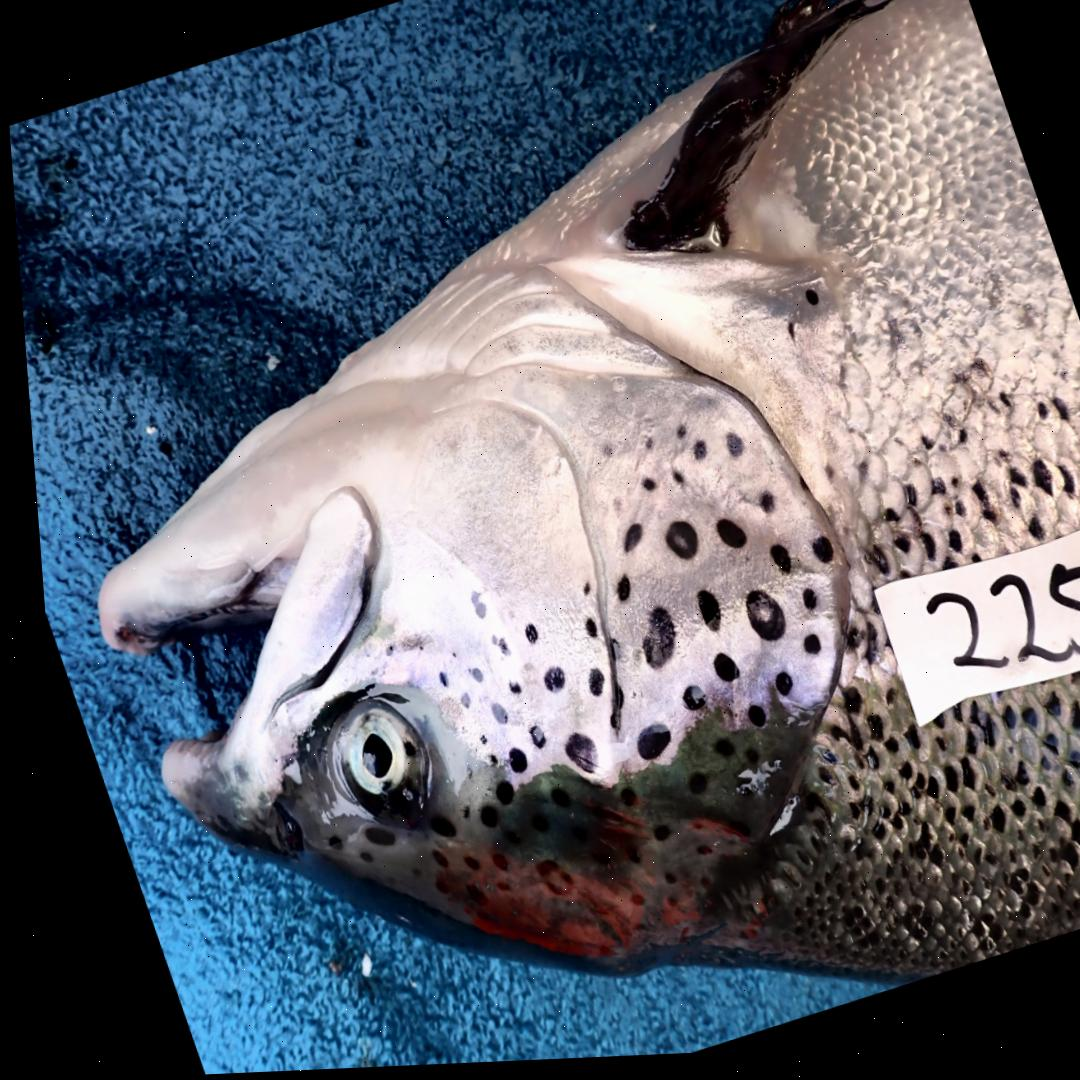spot: (736, 596, 775, 649), (632, 612, 665, 674), (553, 737, 585, 778), (625, 729, 659, 766), (657, 526, 689, 565), (687, 596, 712, 638), (707, 524, 738, 556), (703, 659, 728, 690), (760, 551, 783, 580), (802, 543, 825, 571), (671, 691, 694, 717), (616, 529, 635, 558), (533, 671, 554, 697), (736, 710, 756, 735), (577, 673, 594, 702), (460, 595, 477, 624), (718, 439, 737, 464), (764, 679, 783, 703), (497, 752, 515, 777), (793, 639, 811, 663), (517, 730, 534, 754), (751, 497, 767, 521), (792, 595, 808, 618), (607, 580, 621, 606), (481, 707, 497, 729), (597, 643, 613, 665), (686, 446, 700, 466), (575, 622, 588, 643), (515, 628, 528, 648), (459, 669, 473, 687), (447, 695, 459, 713), (488, 642, 500, 660), (634, 482, 649, 496), (498, 685, 511, 700), (594, 450, 607, 465), (670, 431, 680, 447), (428, 676, 439, 690), (573, 586, 583, 601), (665, 476, 675, 490), (638, 443, 647, 458), (478, 759, 487, 770), (467, 739, 475, 749), (481, 639, 488, 648), (408, 648, 414, 654), (379, 647, 384, 654), (443, 656, 447, 663)
